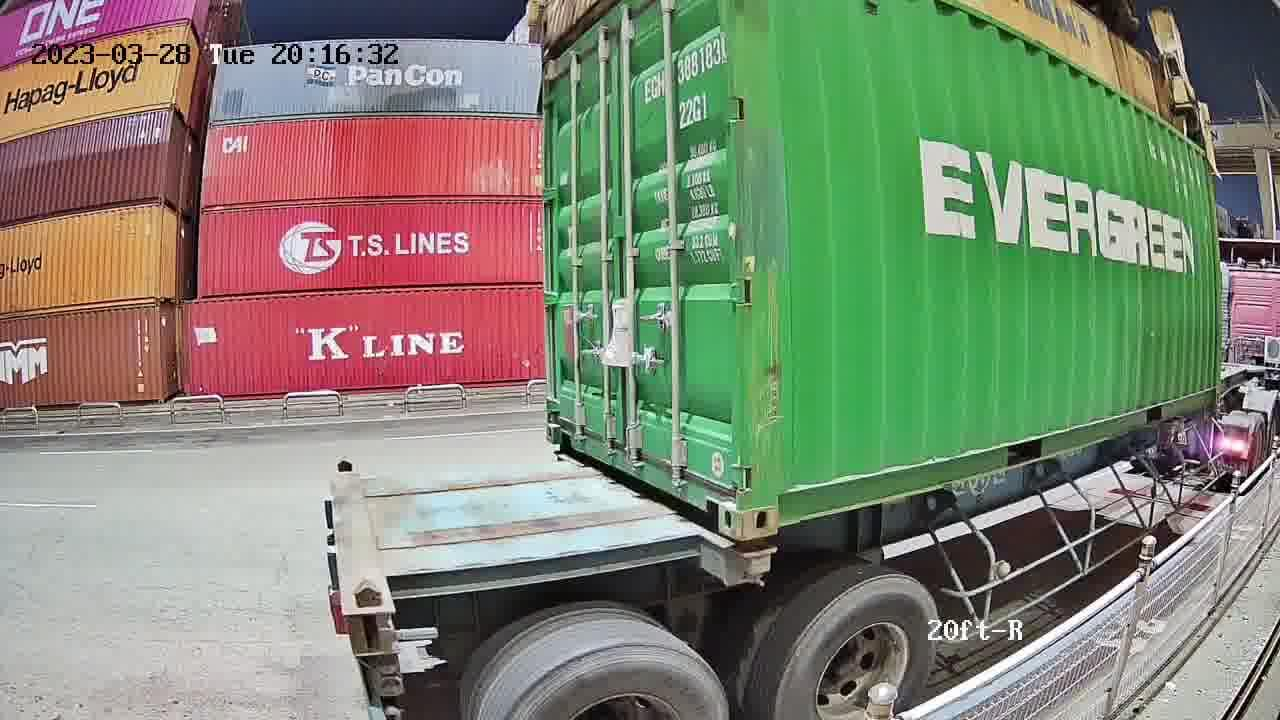Cone: (734, 539, 775, 584)
Hole_L: (741, 456, 807, 539), (546, 398, 580, 452)
Hole_R: (689, 453, 743, 540)
Tire: (775, 578, 939, 715), (505, 645, 727, 714)
